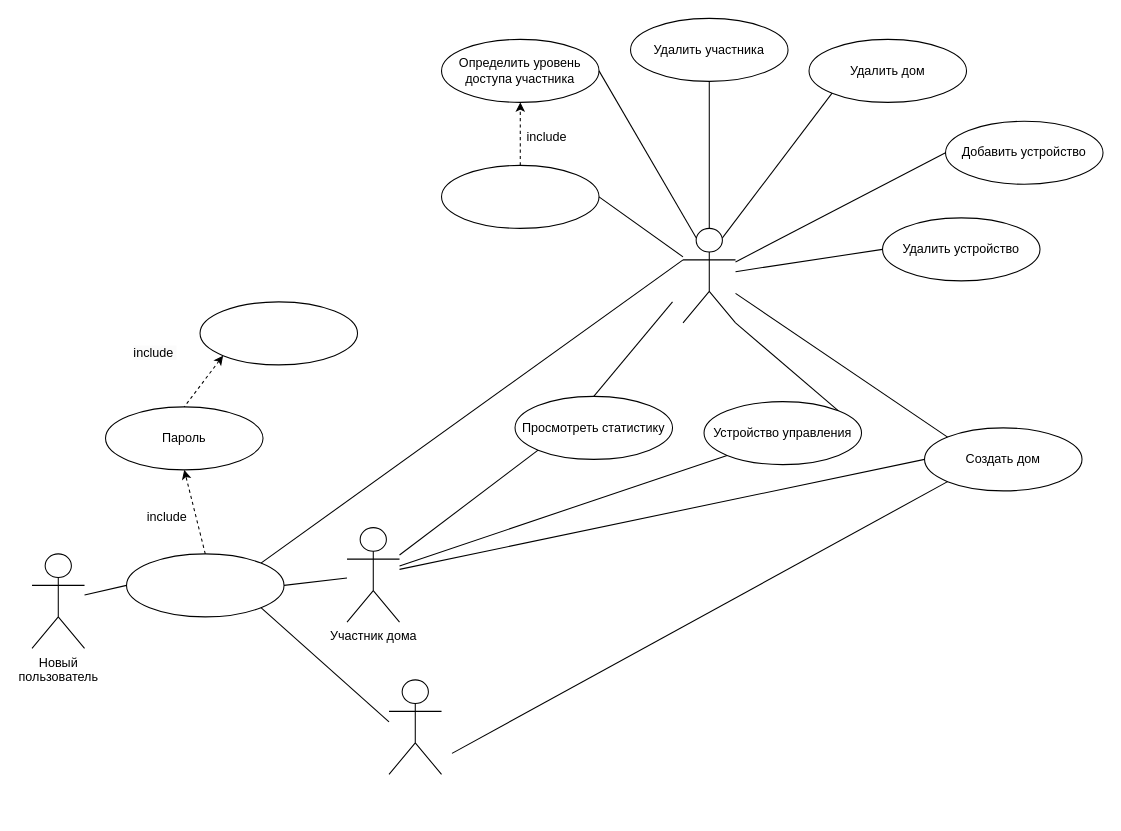
This 1121x831 diagram has some shape labels left out. Here are the shapes that lost their labels. From the top down, the box of each, then its label:
(440, 164, 599, 228): Добавить участника
(682, 227, 736, 323): Владелец
(199, 301, 358, 365): Зарегистрировать пользователя
(125, 553, 284, 617): Логин
(388, 679, 442, 774): Зарегистрированный пользователь
